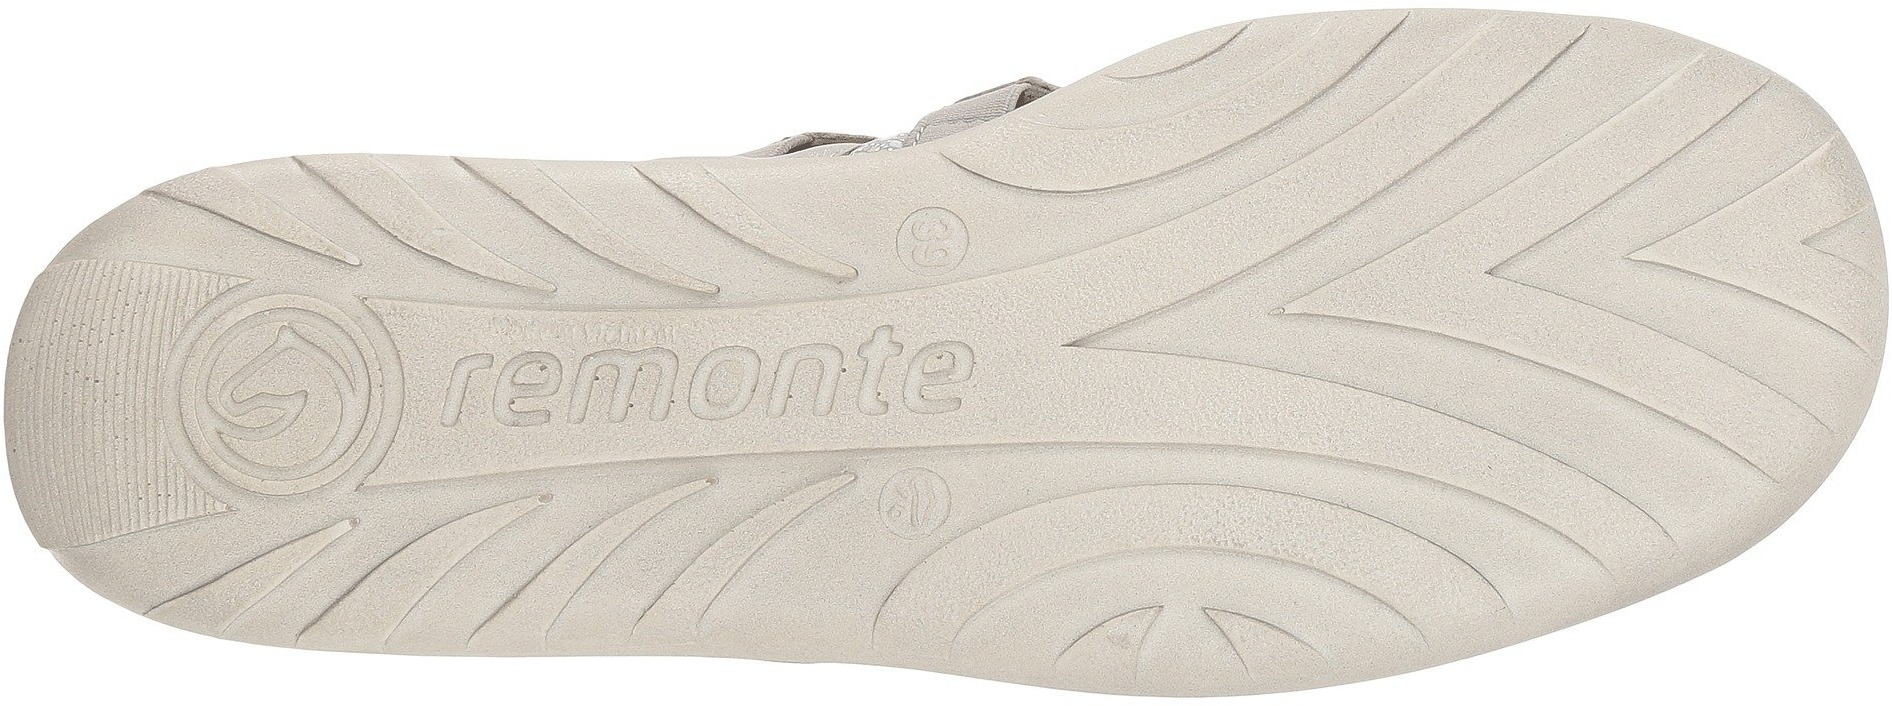chevron: (1514, 56, 1892, 427), (1064, 138, 1453, 488), (1517, 259, 1892, 589)
circle: (173, 288, 402, 503), (889, 194, 989, 288), (870, 465, 964, 549), (883, 466, 965, 547)
line: (23, 307, 163, 434)
text: (728, 320, 876, 456), (422, 337, 573, 465), (580, 319, 717, 459), (880, 307, 1002, 440), (889, 194, 989, 288), (883, 466, 965, 547), (903, 211, 967, 269)
triangle: (405, 482, 588, 655), (399, 159, 570, 308), (1038, 587, 1164, 699)
